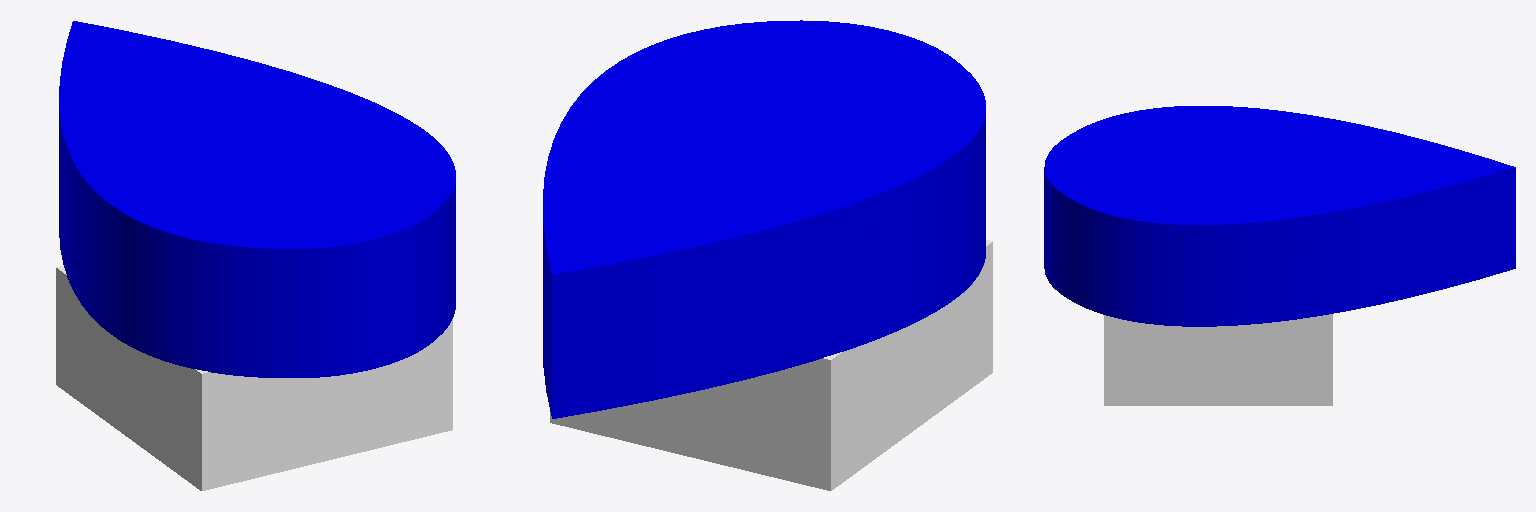
URDF robot description (foil.urdf):
<?xml version="1.0" ?>
<robot name="foil.urdf">

  <link name="base">
    <contact>
    	<friction_anchor/>
    	<lateral_friction value="1.0"/>
    </contact>
    <inertial>
      <origin rpy="0 0 0" xyz="0 0 0"/>
       <mass value=".1"/>
       <inertia ixx="1" ixy="0" ixz="0" iyy="1" iyz="0" izz="1"/>
    </inertial>
    <visual>
      <origin rpy="0 0 0" xyz="0 0 0"/>
      <geometry>
				<box size="0.056 0.056 0.025"/>
      </geometry>
       <material name="white">
        <color rgba="1.0 1.0 1.0 1"/>
      </material>
    </visual>
    <collision>
      <origin rpy="0 0 0" xyz="0 0 0"/>
      <geometry>
        <box size="0.056 0.056 0.025"/>
      </geometry>
    </collision>
  </link>

  <link name="foil">
    <contact>
    	<friction_anchor/>
    	<lateral_friction value="1.0"/>
    </contact>
    <inertial>
      <origin rpy="0 0 0" xyz="0 0 0"/>
       <mass value=".1"/>
       <inertia ixx="1" ixy="0" ixz="0" iyy="1" iyz="0" izz="1"/>
    </inertial>
    <visual>
      <origin rpy="0 0 0" xyz="0 0 0"/>
      <geometry>
				<mesh filename="foil.obj" scale="1.0 1.0 1.0"/>
      </geometry>
       <material name="blue">
        <color rgba="0 0 1 1.0"/>
      </material>
    </visual>
    <collision>
      <origin rpy="0 0 0" xyz="0 0 0"/>
      <geometry>
				<mesh filename="foil.obj" scale="1.0 1.0 1.0"/>
      </geometry>
    </collision>
  </link>

  <joint name="base_joint" type="fixed">
     <origin xyz="0 0 0.0125" rpy="0 0 0"/>
     <axis xyz="0 0 1"/>
     <parent link="base"/>
     <child link="foil"/>
  </joint>

</robot>

--- What the picture shows (computed from the rendered views, not written in the file) ---
3 views of the same robot in one strip: view 1: azimuth 30°, elevation 25°; view 2: azimuth 150°, elevation 25°; view 3: azimuth 270°, elevation 25° (orthographic).
Model foil.urdf with 2 links and 1 joints (1 fixed), rooted at base, posed every joint at zero.
Visible links, largest first — view 1: foil, base; view 2: foil, base; view 3: foil, base.
Boxes of the visible links, <box> form: foil: <box>59,21,455,377</box>; base: <box>56,266,452,490</box>; foil: <box>543,20,985,418</box>; base: <box>550,240,992,490</box>; foil: <box>1044,106,1515,326</box>; base: <box>1104,314,1332,405</box>.
Size in the robot's own frame: 0.0693 by 0.1154 by 0.0524 metres.
Meshes: 1 distinct files referenced, 1 mesh visuals loaded (1 OBJ).